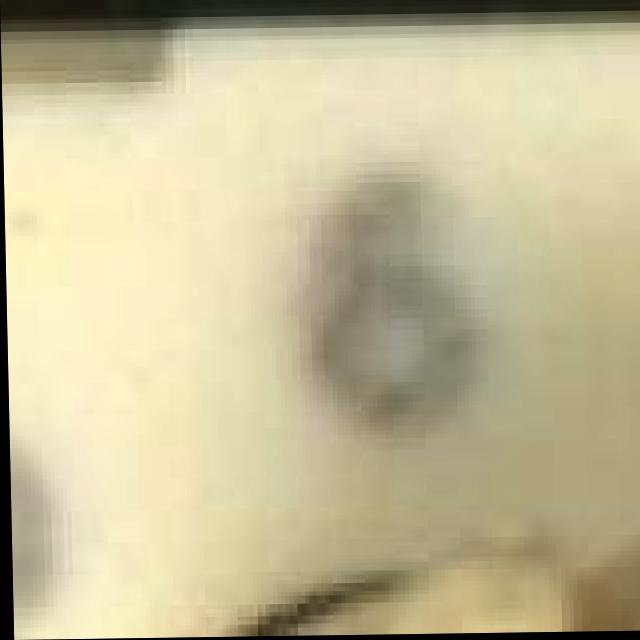potentiometer: (1, 25, 640, 640)
